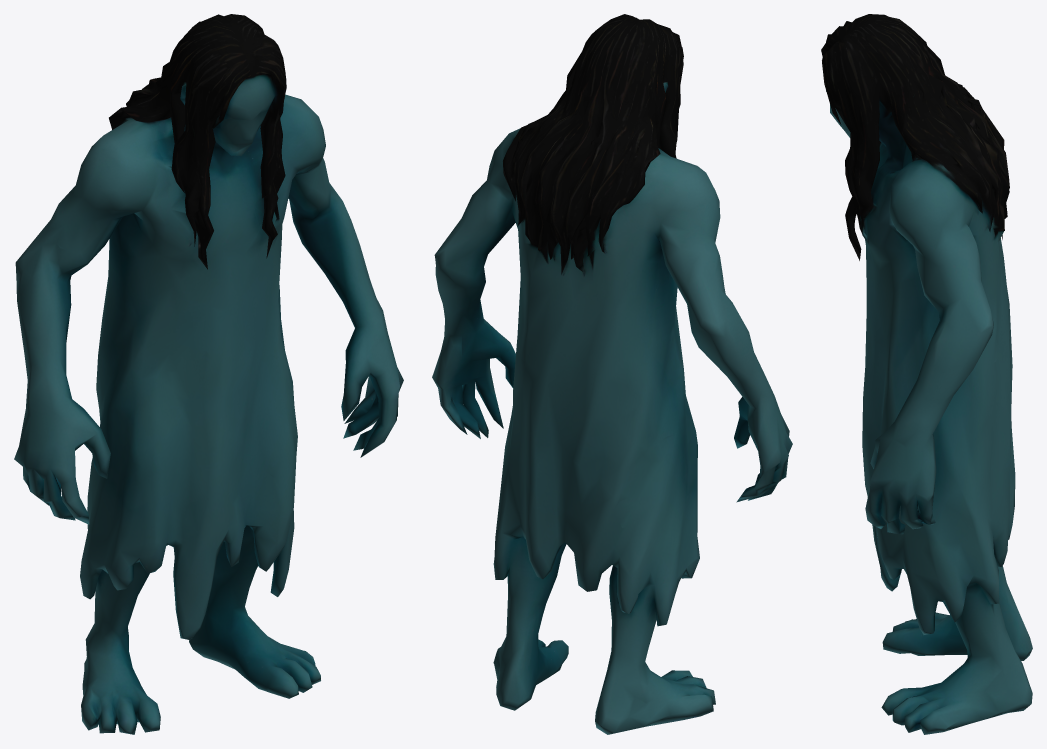
File: water.glb
3 views of the same model, side by side, from view 1: azimuth 30°, elevation 25°; view 2: azimuth 150°, elevation 25°; view 3: azimuth 270°, elevation 25° (orthographic). The views are drawn at different scales.
Visible parts, largest first — view 1: tripo_node_1767b922-ce2a-4588-b358-cccb80b27e1d; view 2: tripo_node_1767b922-ce2a-4588-b358-cccb80b27e1d; view 3: tripo_node_1767b922-ce2a-4588-b358-cccb80b27e1d.
Part boxes in pixels (<box>): tripo_node_1767b922-ce2a-4588-b358-cccb80b27e1d: <box>14,14,403,734</box>; tripo_node_1767b922-ce2a-4588-b358-cccb80b27e1d: <box>432,14,792,734</box>; tripo_node_1767b922-ce2a-4588-b358-cccb80b27e1d: <box>821,14,1032,734</box>.
Size of the model in its own units: 0.5614 by 1 by 0.2897.
1 material, 1 textured.
